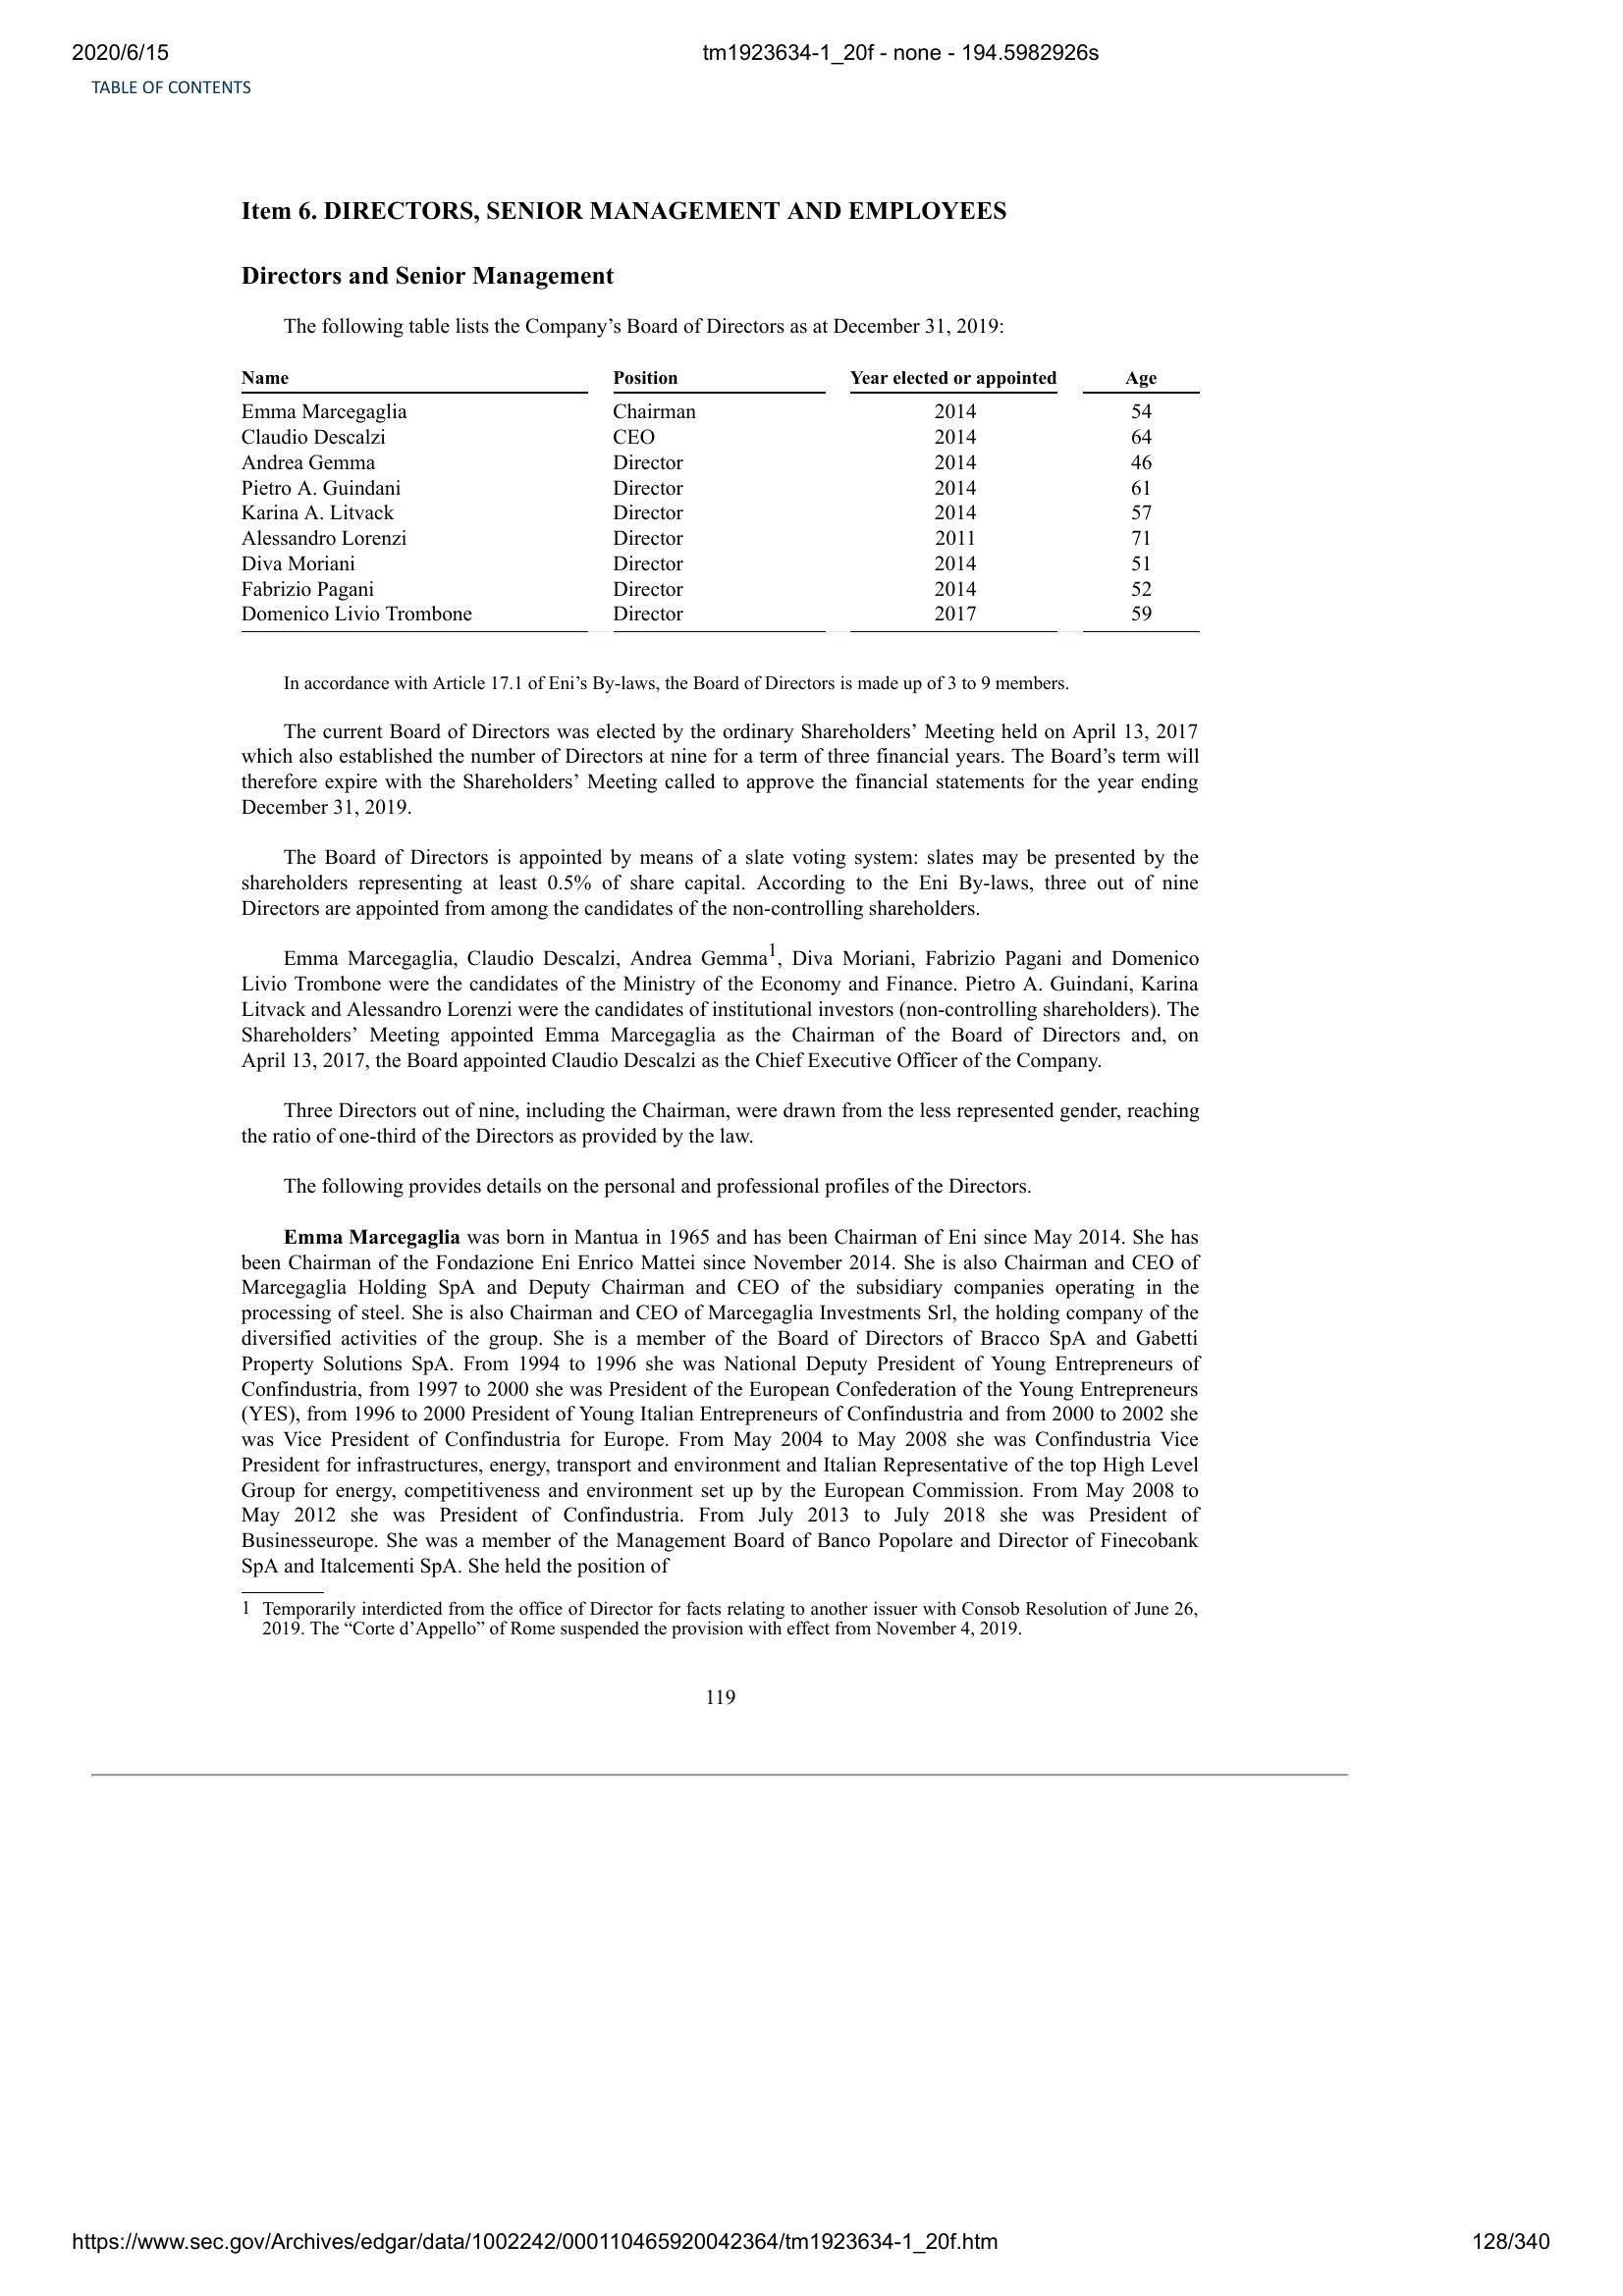table: (232, 363, 1212, 642)
